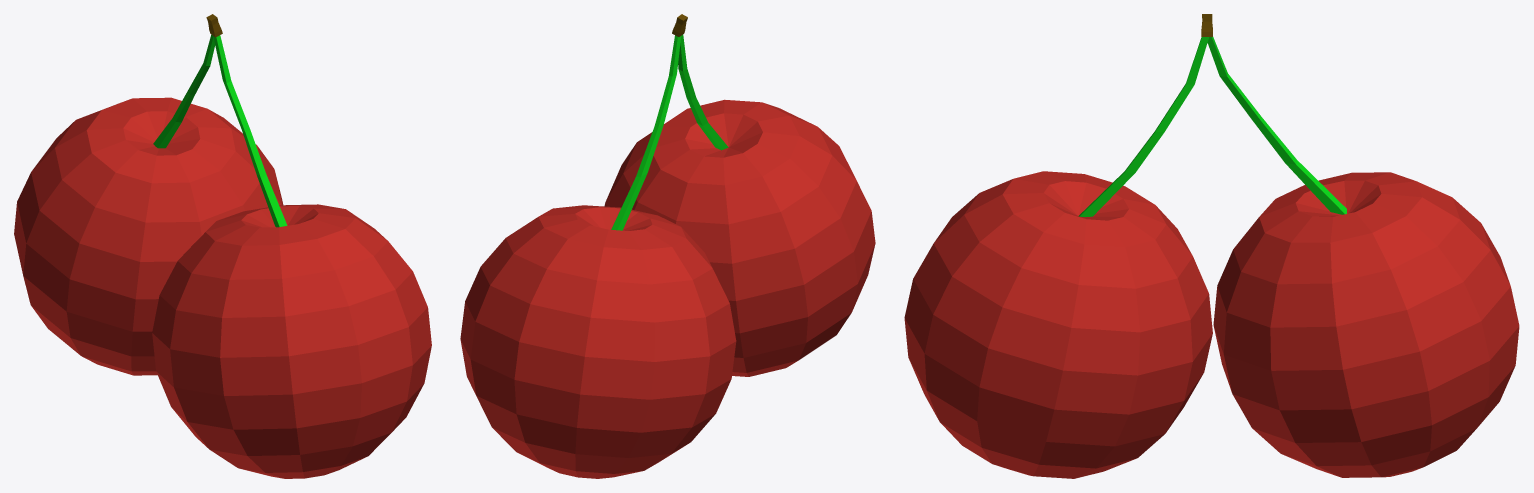
File: cherry_.fbx
The picture shows the model from 3 angles, left to right: view 1: azimuth 30°, elevation 25°; view 2: azimuth 150°, elevation 25°; view 3: azimuth 270°, elevation 25°; orthographic projection. The views are drawn at different scales.
Parts seen in each view (by area): view 1: cherry; view 2: cherry; view 3: cherry.
Part boxes in pixels (left/top/right/bottom): cherry: left=14, top=14, right=431, bottom=478; cherry: left=460, top=14, right=875, bottom=478; cherry: left=904, top=14, right=1519, bottom=478.
Size of the model in its own units: 66.81 by 107 by 134.
